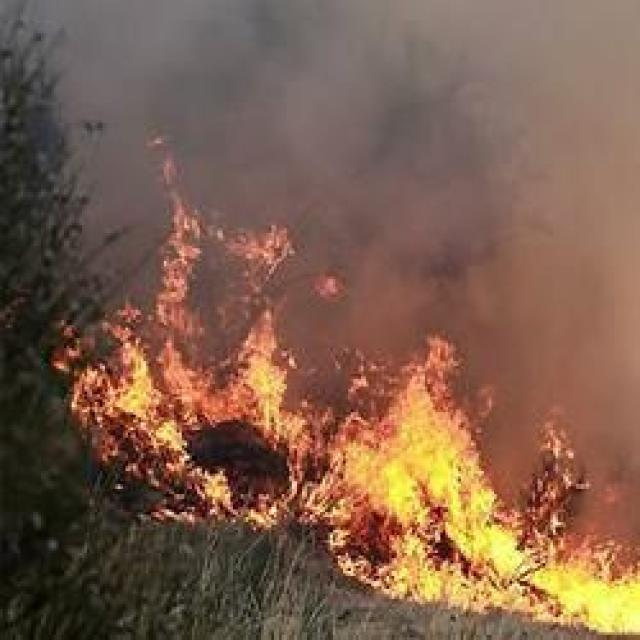Fire: (324, 344, 640, 640), (61, 210, 320, 530)
Smoke: (327, 0, 640, 335), (61, 0, 322, 200)
